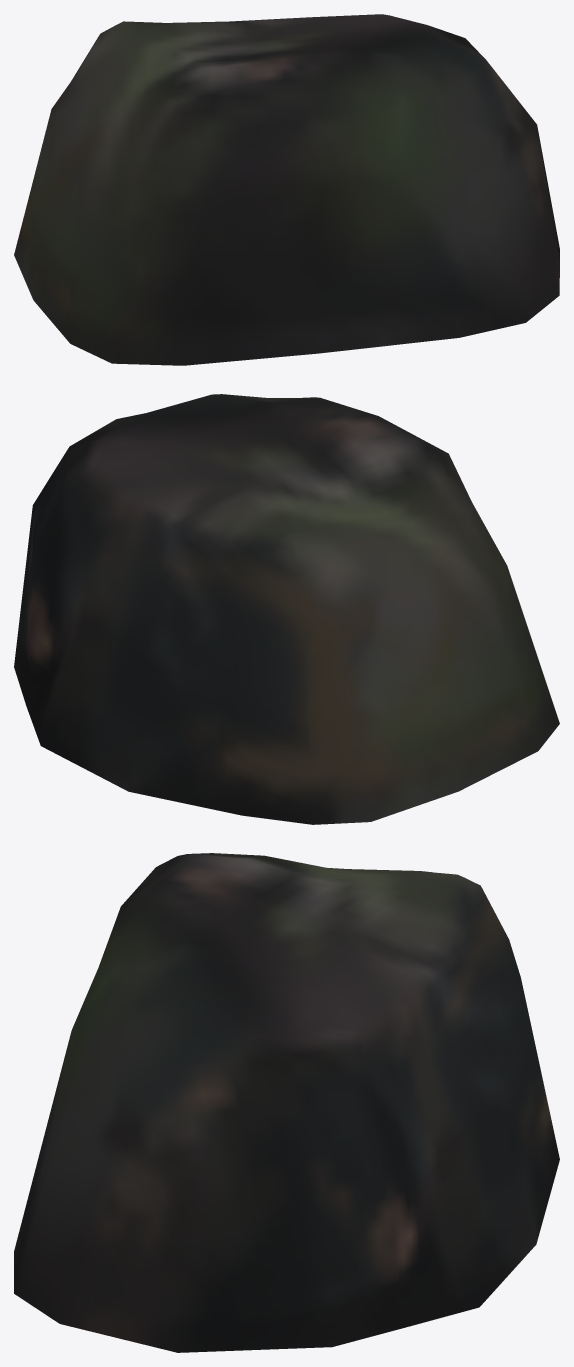
File: Beach_RockPlatform_4.glb
3 renders of one model, top to bottom at view 1: azimuth 30°, elevation 25°; view 2: azimuth 150°, elevation 25°; view 3: azimuth 270°, elevation 25°, orthographic. The views are drawn at different scales.
Parts seen in each view (by area): view 1: Object_2.012; view 2: Object_2.012; view 3: Object_2.012.
Boxes of the visible parts, box(x1,y1,x2,y2) form: Object_2.012: box(14, 14, 559, 365); Object_2.012: box(14, 394, 559, 824); Object_2.012: box(14, 853, 559, 1352).
Bounding box in the file's own units: 17.85 × 9.43 × 14.57.
Materials: 1 (1 with a texture image).
